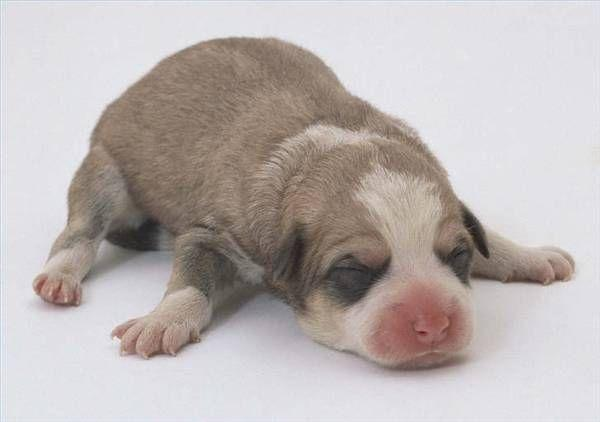puppy-dog: (31, 37, 579, 370)
